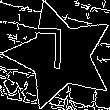L_S: (43, 30, 77, 81)
